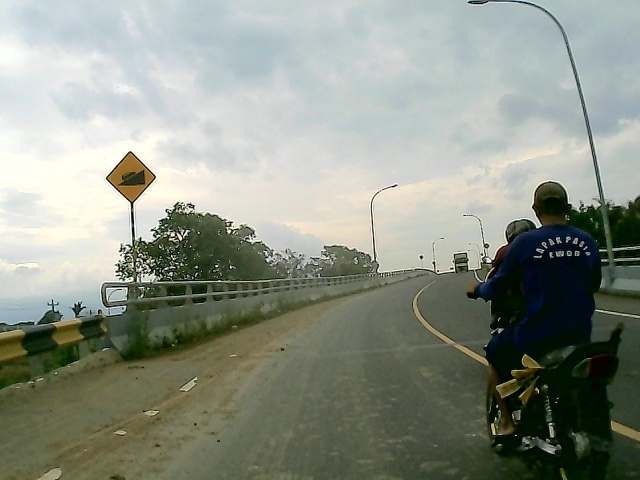Jalanan menanjak: (105, 151, 158, 204)
